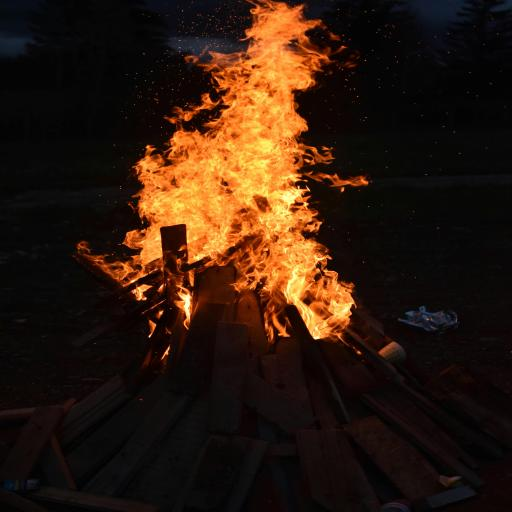campfire: (64, 0, 468, 463)
